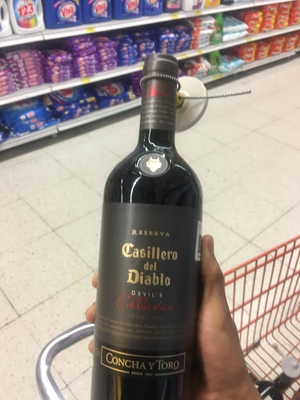casillero del diablo devils collection rojo: (81, 53, 224, 400)
